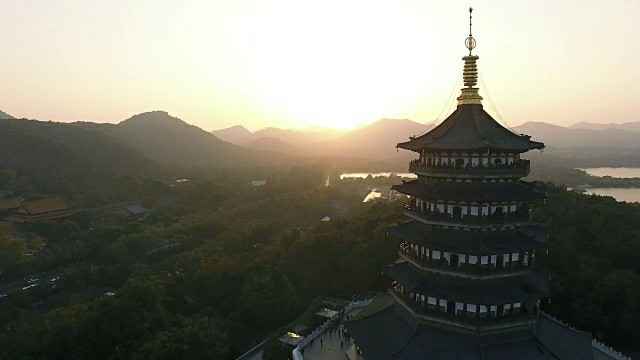Leifeng: (342, 1, 599, 360)
